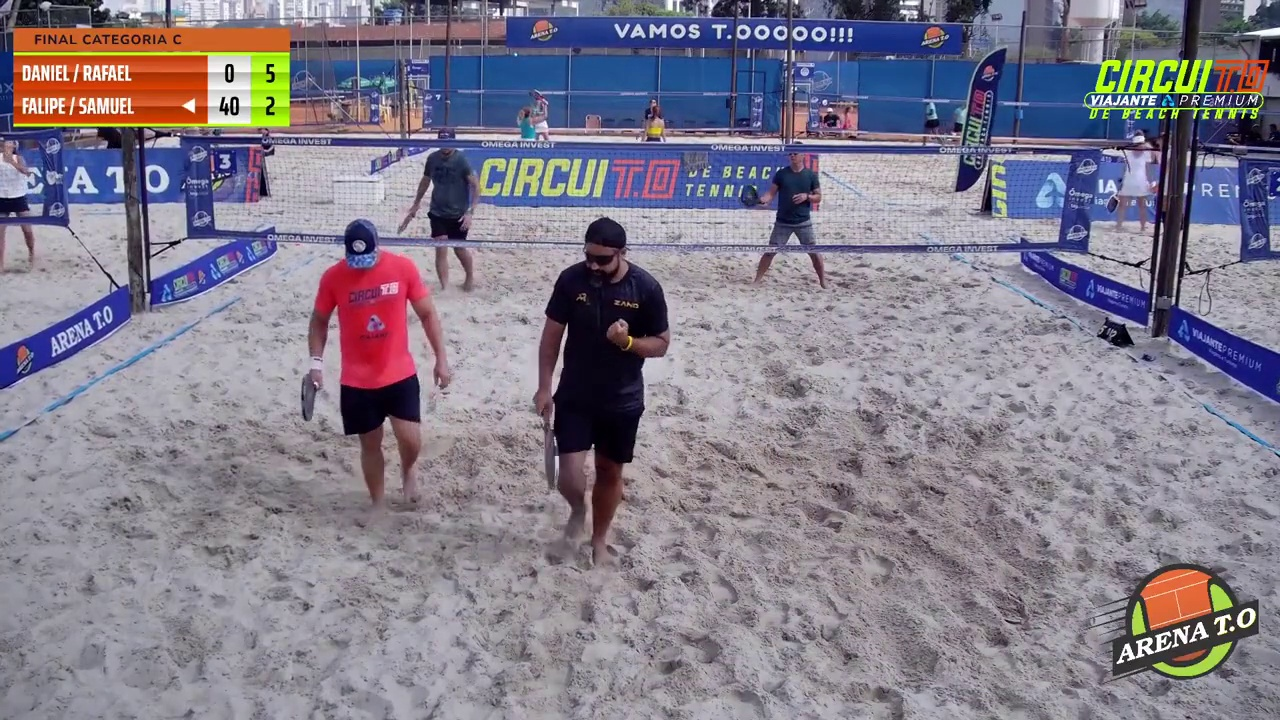court_line: (636, 0, 799, 459), (456, 0, 587, 491)
